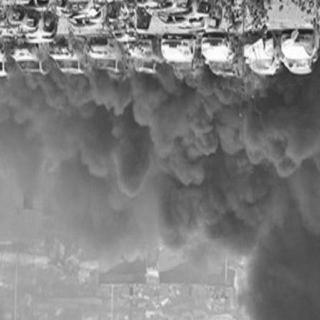Smoke: (2, 82, 319, 318)
